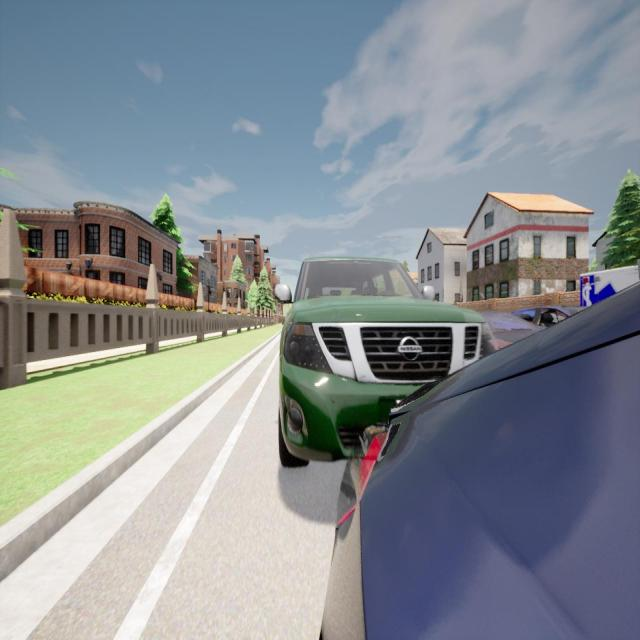Vehicle: (322, 283, 640, 638), (274, 256, 488, 469), (462, 312, 540, 363), (579, 266, 640, 317), (512, 308, 576, 340)
